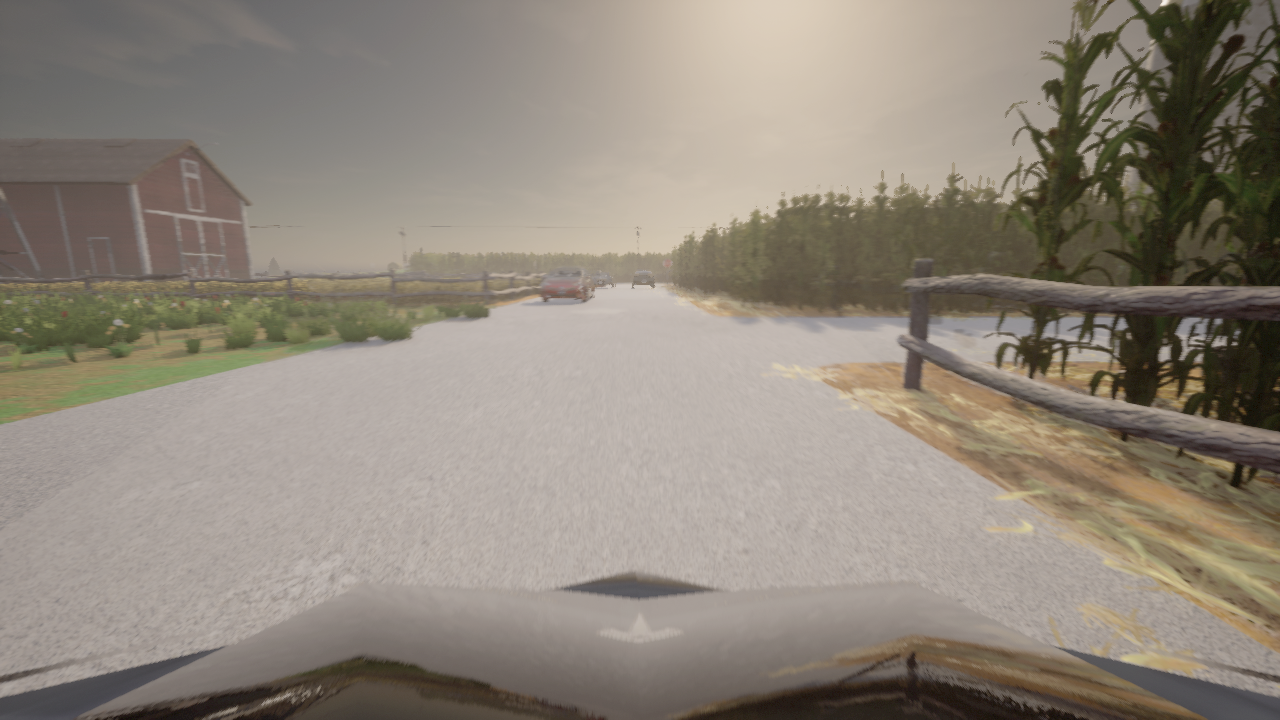cyclist: (0, 569, 1279, 719), (540, 266, 593, 302), (630, 268, 655, 288), (591, 271, 615, 287), (398, 271, 440, 278), (655, 269, 672, 282), (466, 272, 496, 277)
